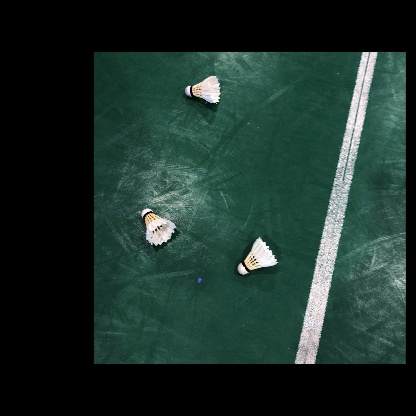ball_single: (237, 237, 278, 275), (141, 208, 176, 246), (185, 75, 221, 104)
